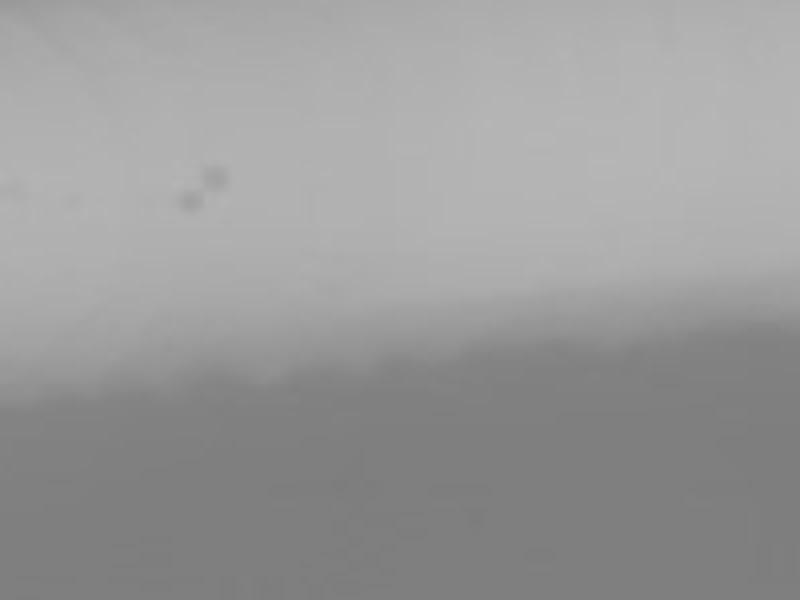defect: (201, 165, 229, 193), (180, 190, 203, 213)
